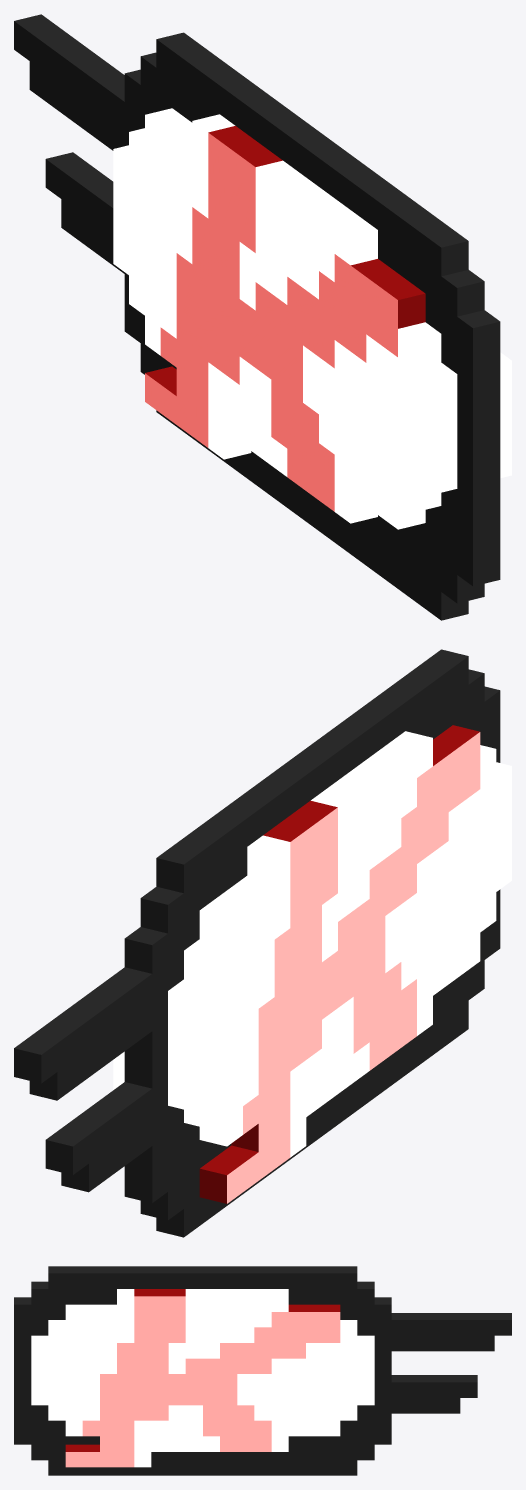
File: comicStoreSign.glb
The picture shows the model from 3 angles, top to bottom: view 1: azimuth 30°, elevation 25°; view 2: azimuth 150°, elevation 25°; view 3: azimuth 270°, elevation 25°; orthographic projection. The views are drawn at different scales.
Parts seen in each view (by area): view 1: ObjObject; view 2: ObjObject; view 3: ObjObject.
Boxes of the visible parts, x1,y1,x2,y2 form: ObjObject: (14,14,511,620); ObjObject: (14,649,511,1237); ObjObject: (14,1266,511,1475).
Size of the model in its own units: 0.3 by 1.3 by 2.9.
3 materials, 1 textured.
